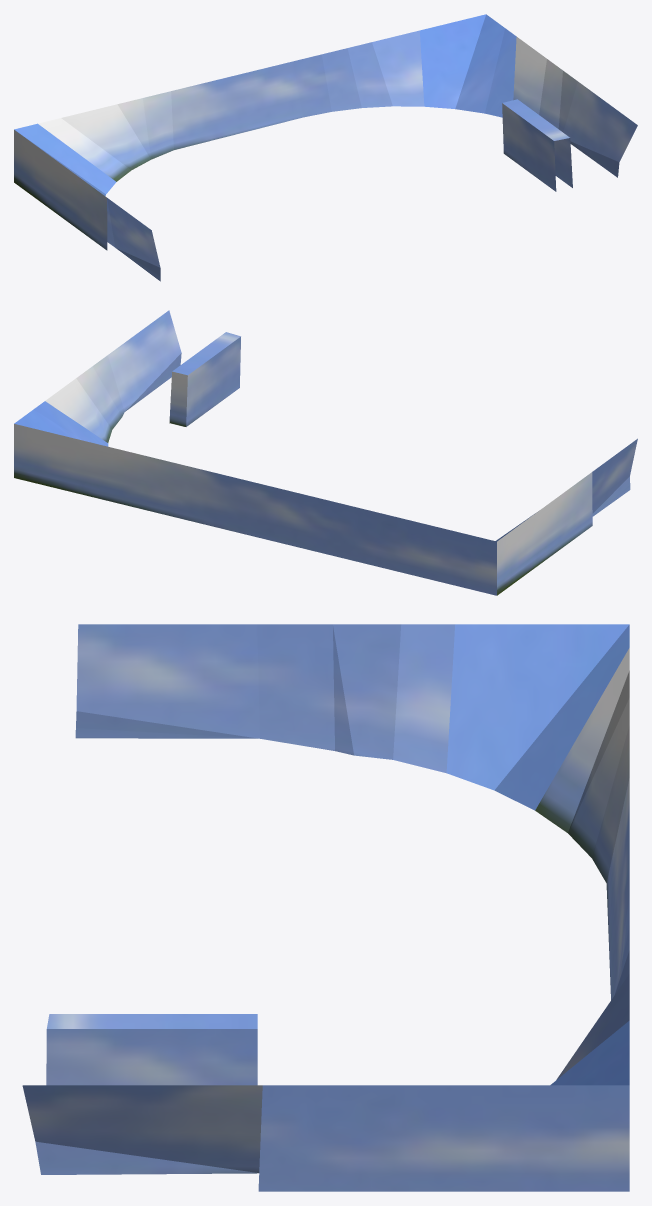
File: rand bovenkant.FBX
3 renders of one model, top to bottom at view 1: azimuth 30°, elevation 25°; view 2: azimuth 150°, elevation 25°; view 3: azimuth 270°, elevation 25°, orthographic. The views are drawn at different scales.
Visible parts, largest first — view 1: rand; view 2: rand; view 3: rand.
Boxes of the visible parts, x1,y1,x2,y2 form: rand: (14, 14, 637, 281); rand: (14, 310, 637, 595); rand: (22, 624, 629, 1191).
Bounding box in the file's own units: 91.48 × 10.63 × 50.92.
